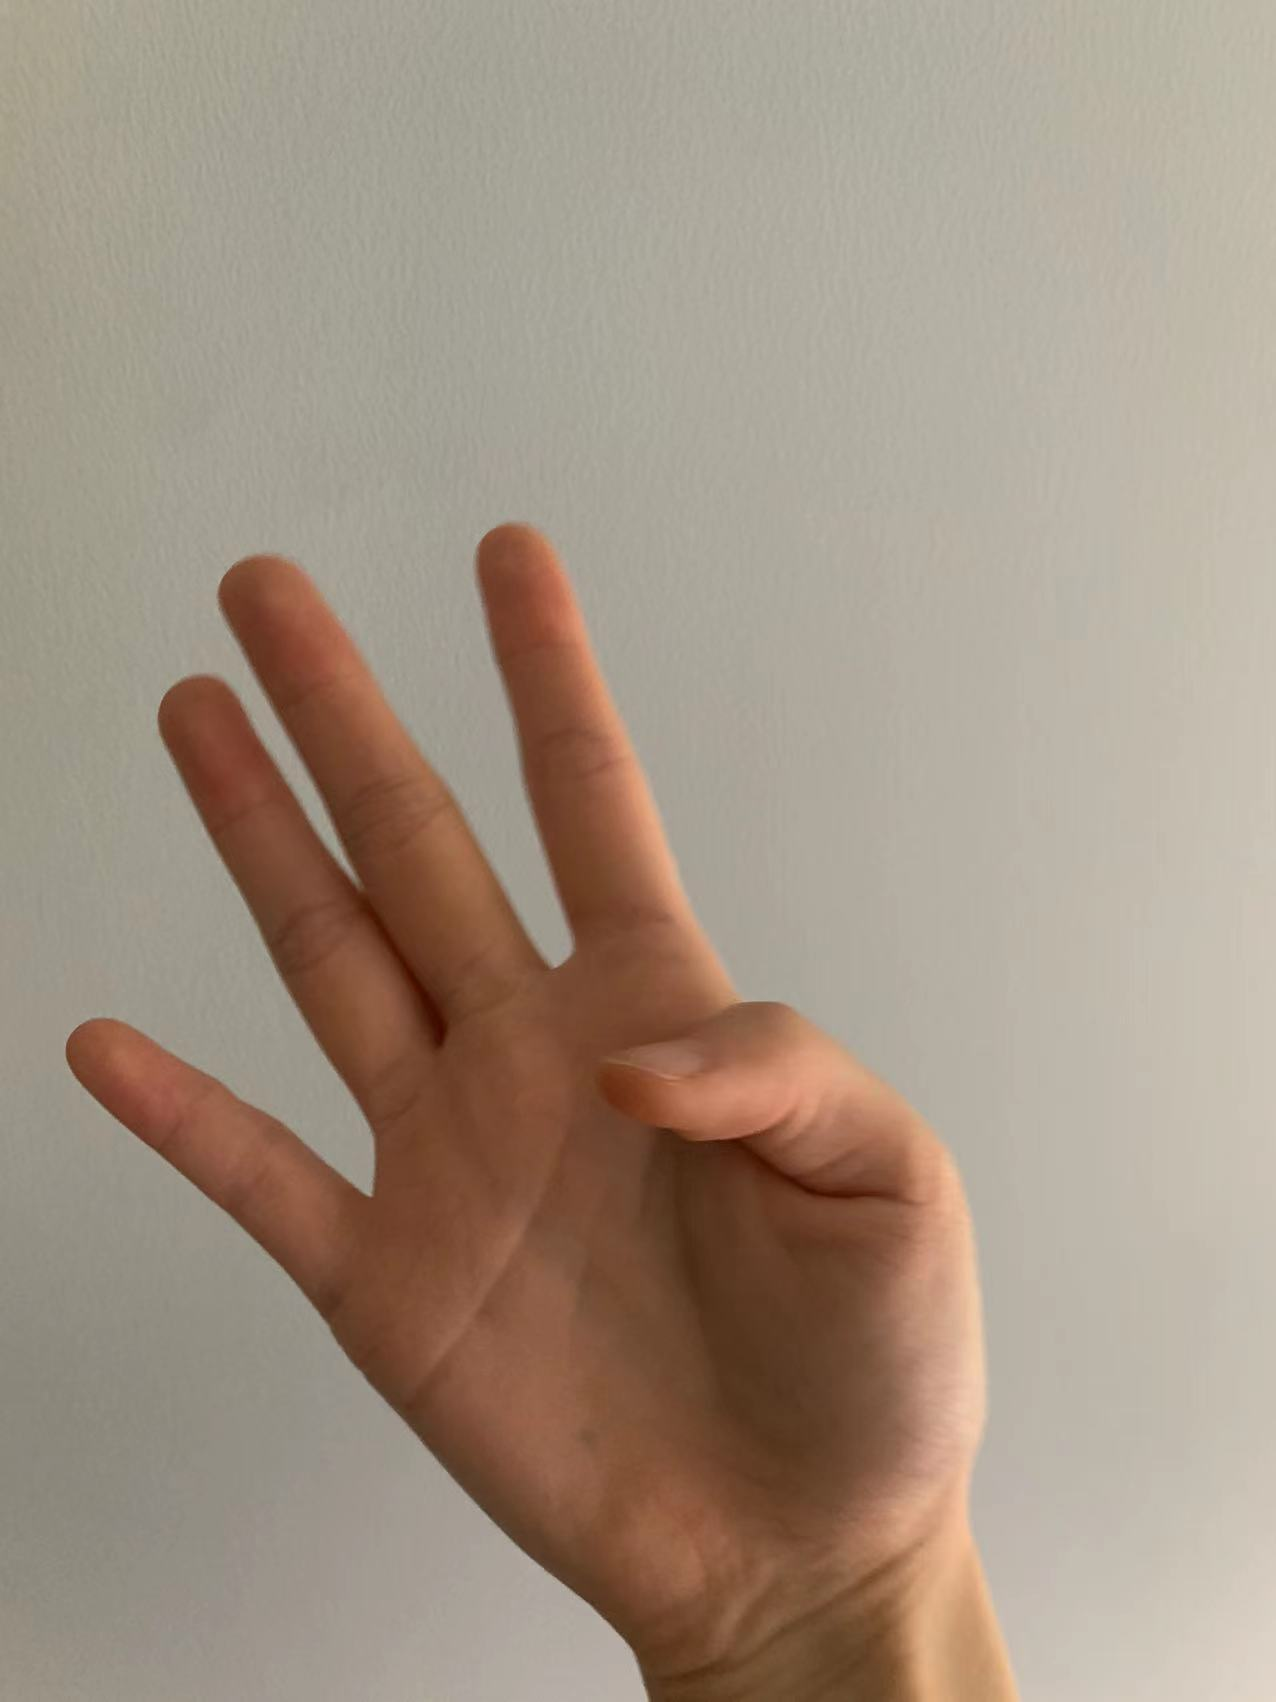right: (51, 505, 991, 1664)
